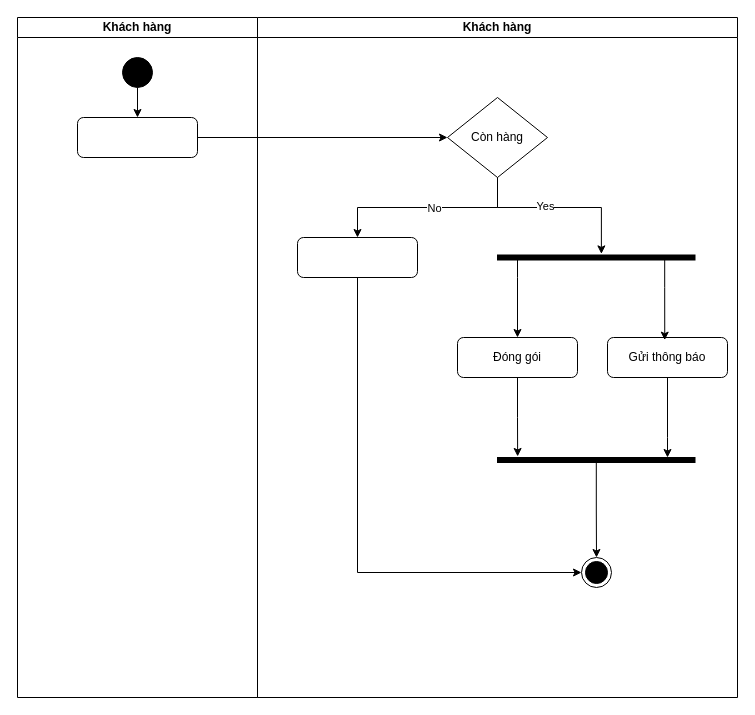
This 755x715 diagram has some shape labels left out. Each missing label, with the centre of its shape:
Báo hết hàng: the point at 357,257
Đặt đơn: the point at 137,137
